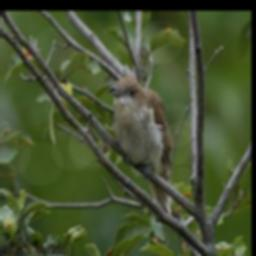Cuckoo: (108, 74, 174, 215)
